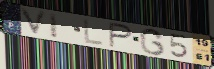5: (169, 32, 190, 59)
G: (139, 28, 166, 57)
I: (48, 12, 59, 40)
L: (82, 18, 104, 47)
P: (108, 21, 134, 50)
V: (18, 6, 50, 38)
